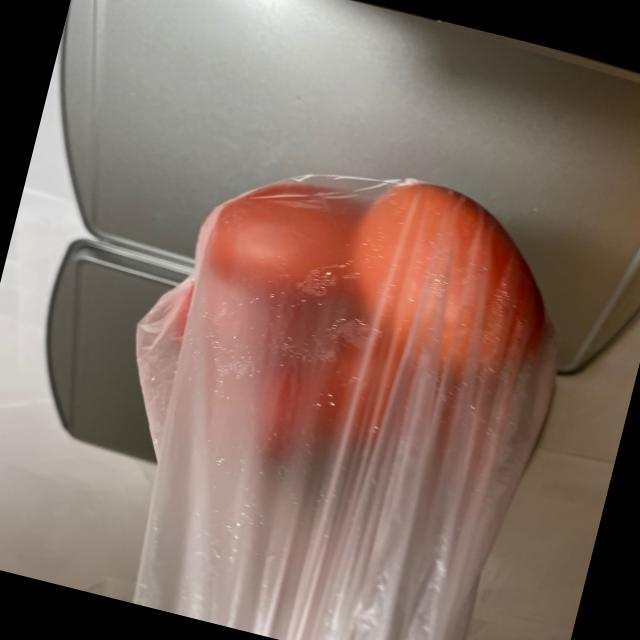tomato: (105, 124, 572, 552)
